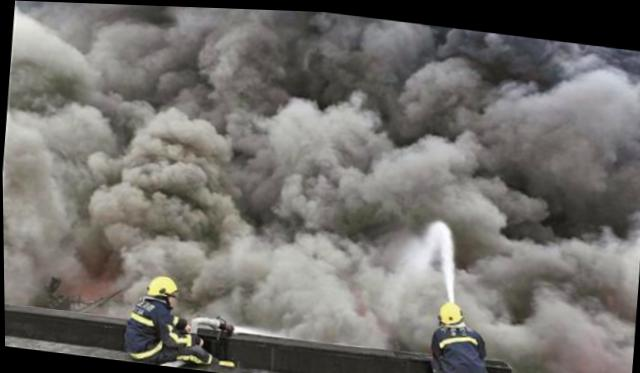smoke: (327, 14, 465, 180), (216, 6, 344, 170), (106, 3, 226, 159), (214, 157, 349, 295), (454, 27, 565, 194), (1, 122, 106, 271), (5, 0, 120, 133), (555, 38, 639, 213), (96, 151, 221, 265), (338, 175, 428, 327), (549, 211, 638, 344), (458, 187, 552, 299), (532, 337, 626, 371)
